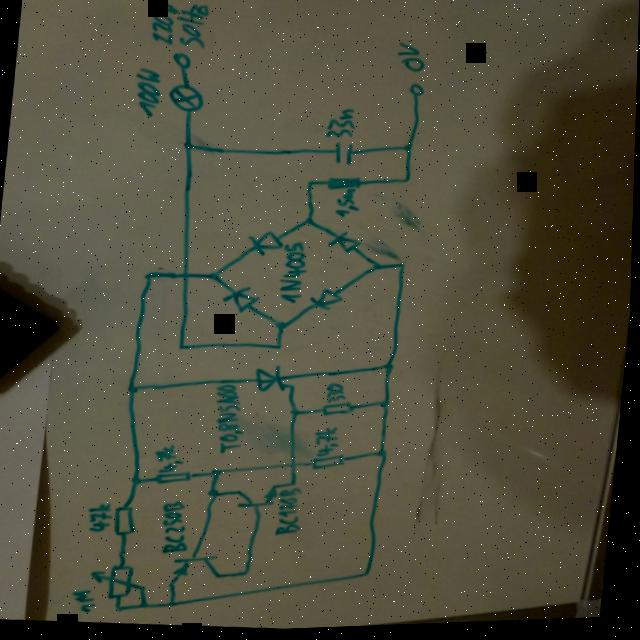capacitor: (326, 142, 362, 171)
crossover: (178, 268, 195, 285), (287, 457, 303, 474)
diode: (243, 230, 285, 264), (220, 284, 263, 317), (305, 286, 348, 316), (325, 231, 364, 259)
inductor: (322, 174, 367, 196)
junction: (381, 361, 399, 378), (205, 270, 224, 286), (368, 261, 386, 277), (301, 216, 317, 232), (125, 382, 143, 396), (273, 320, 291, 334), (179, 141, 197, 155), (399, 144, 417, 158), (207, 487, 222, 503), (375, 448, 391, 463), (378, 399, 394, 414), (361, 570, 376, 584), (174, 341, 190, 354), (211, 466, 224, 482), (289, 408, 304, 421), (130, 475, 145, 488), (240, 568, 255, 581), (141, 270, 157, 282), (394, 263, 410, 274), (272, 343, 285, 355), (139, 601, 153, 612), (303, 180, 317, 191), (399, 178, 413, 188), (287, 481, 302, 490), (115, 604, 127, 615), (169, 599, 180, 610)
resistor: (89, 561, 152, 602), (112, 500, 144, 541), (306, 452, 352, 476), (153, 468, 198, 489), (319, 401, 360, 422)
terminal: (170, 52, 193, 72), (405, 84, 426, 102)
text: (209, 382, 250, 457), (276, 242, 312, 309), (157, 500, 194, 558), (130, 66, 165, 121), (173, 2, 211, 51), (274, 487, 306, 540), (145, 0, 179, 47), (323, 105, 360, 144), (392, 40, 427, 77), (314, 423, 344, 461), (332, 188, 364, 222), (153, 444, 188, 475), (87, 501, 116, 536), (72, 586, 100, 617), (323, 380, 351, 407)
thyristor: (252, 363, 300, 398)
transistor: (168, 548, 226, 593), (233, 479, 280, 514)
